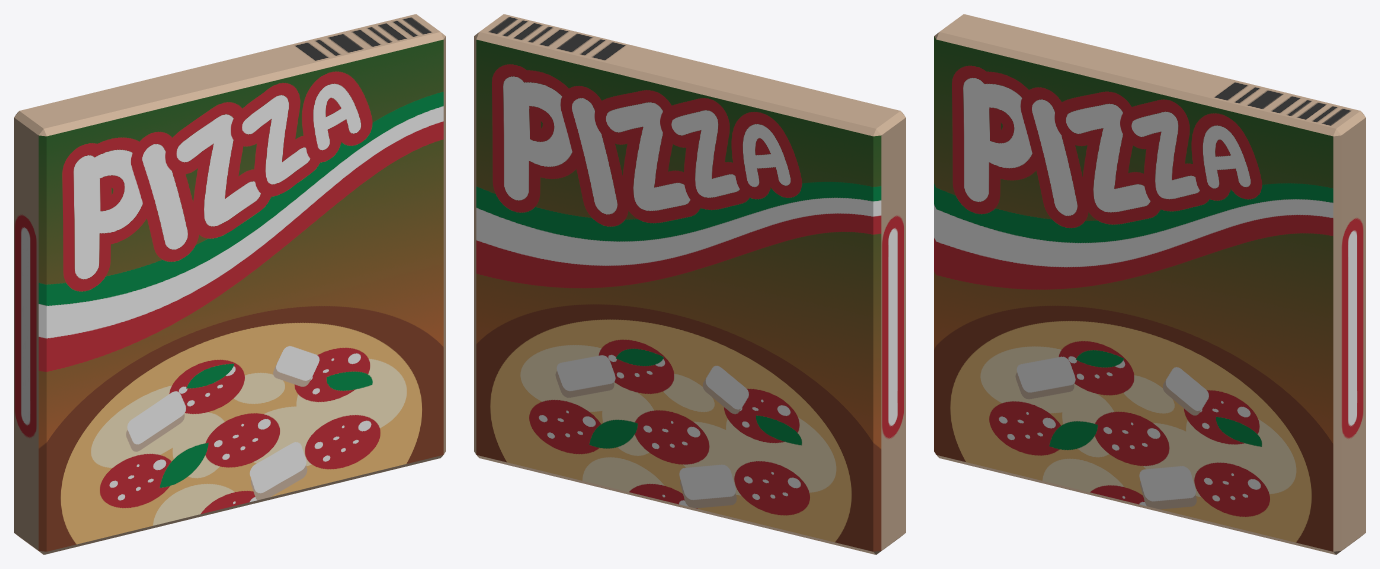
File: pizza.fbx
3 renders of one model, left to right at view 1: azimuth 30°, elevation 25°; view 2: azimuth 150°, elevation 25°; view 3: azimuth 330°, elevation 25°, orthographic.
Visible parts, largest first — view 1: pizza; view 2: pizza; view 3: pizza.
Part boxes in pixels (bbox=[...]): pizza: bbox=[14, 14, 445, 554]; pizza: bbox=[474, 14, 905, 554]; pizza: bbox=[934, 14, 1365, 554].
Bounding box in the file's own units: 62.63 × 62.63 × 8.12.
